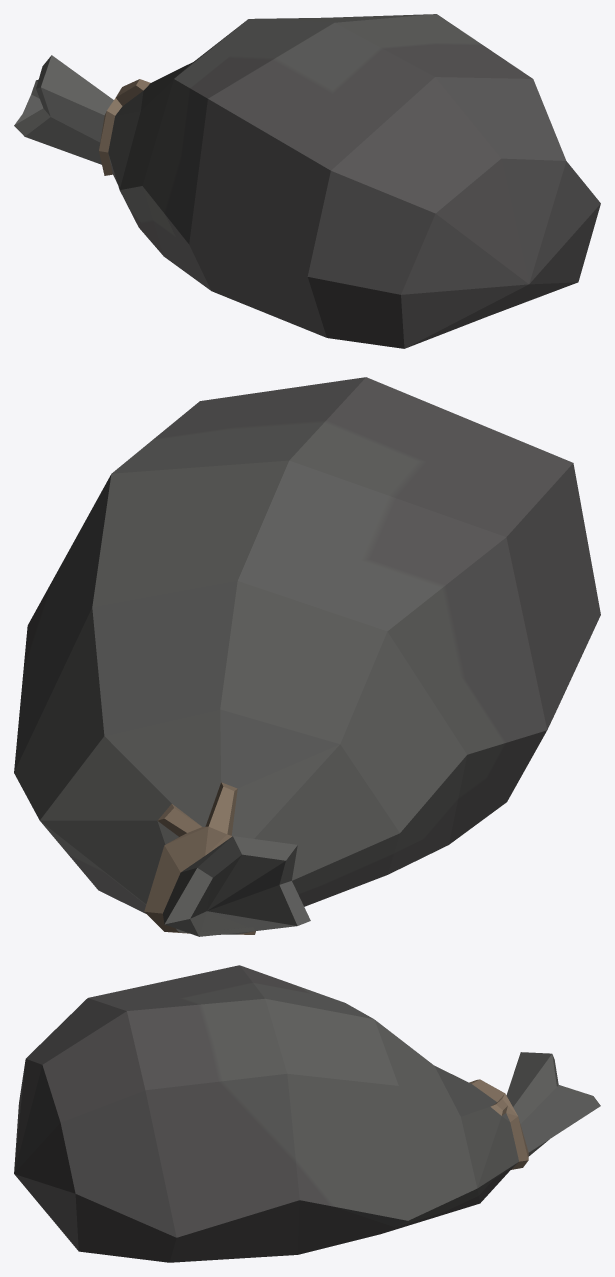
File: SM_Prop_Rubbish_Bag_01.fbx
3 views of the same model, one above another, from view 1: azimuth 30°, elevation 25°; view 2: azimuth 150°, elevation 25°; view 3: azimuth 270°, elevation 25° (orthographic). The views are drawn at different scales.
Parts seen in each view (by area): view 1: SM_Prop_Rubbish_Bag_01; view 2: SM_Prop_Rubbish_Bag_01; view 3: SM_Prop_Rubbish_Bag_01.
Boxes of the visible parts, x1,y1,x2,y2 form: SM_Prop_Rubbish_Bag_01: [14, 14, 600, 348]; SM_Prop_Rubbish_Bag_01: [14, 377, 600, 936]; SM_Prop_Rubbish_Bag_01: [14, 965, 600, 1262].
Bounding box in the file's own units: 61.66 × 37.35 × 99.68.
